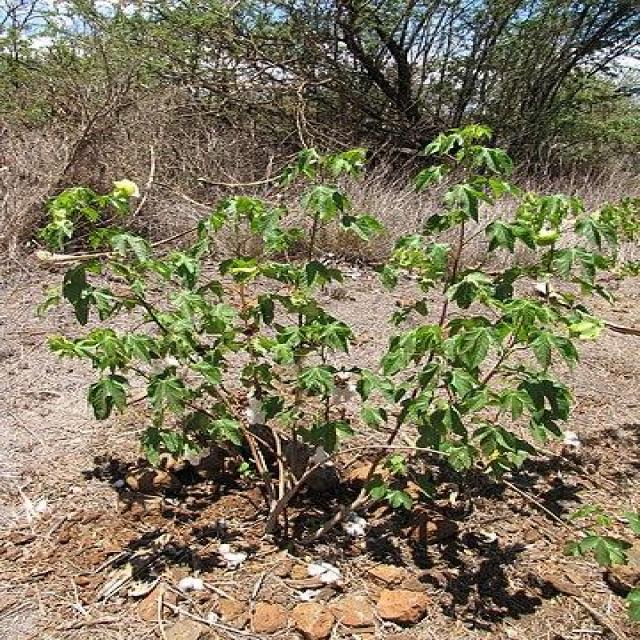Late_blight: (245, 388, 268, 424), (331, 371, 354, 404)
